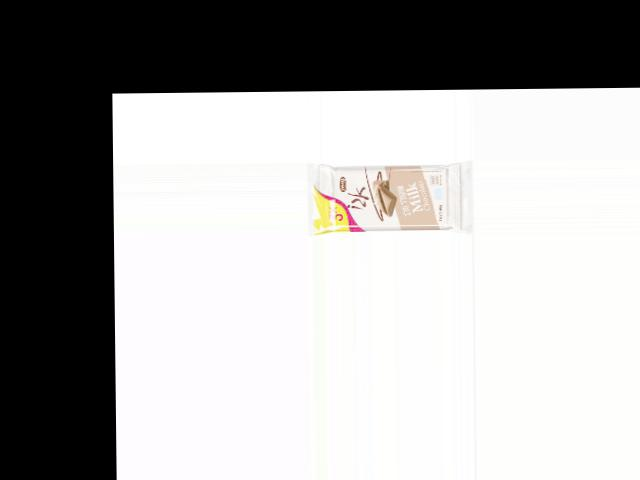chocolate: (306, 159, 458, 235)
